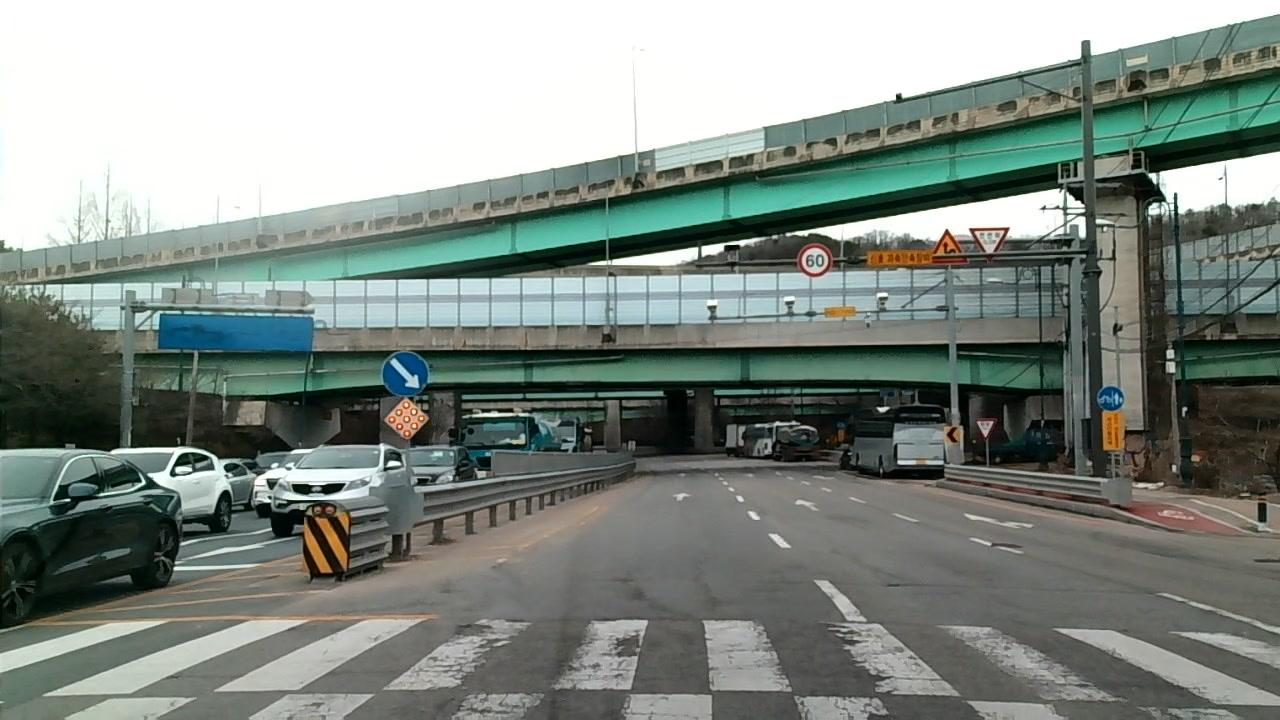banner: (877, 581, 946, 587), (170, 674, 233, 679)
